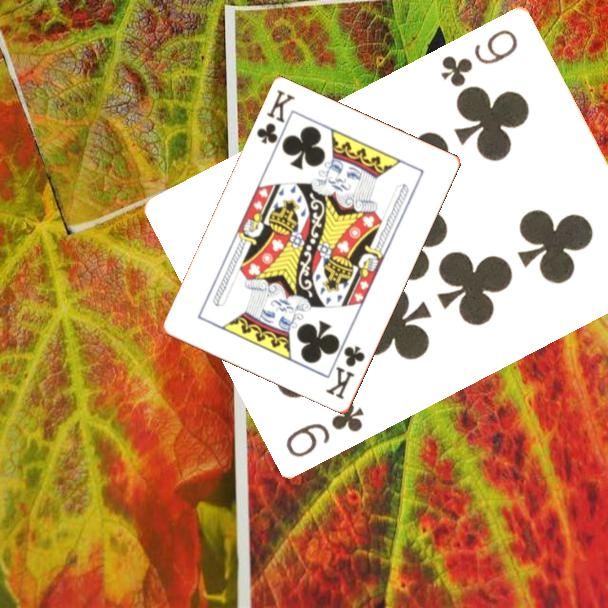c09: (437, 25, 521, 90), (282, 396, 367, 460)
c13: (322, 342, 368, 403), (253, 86, 298, 148)
